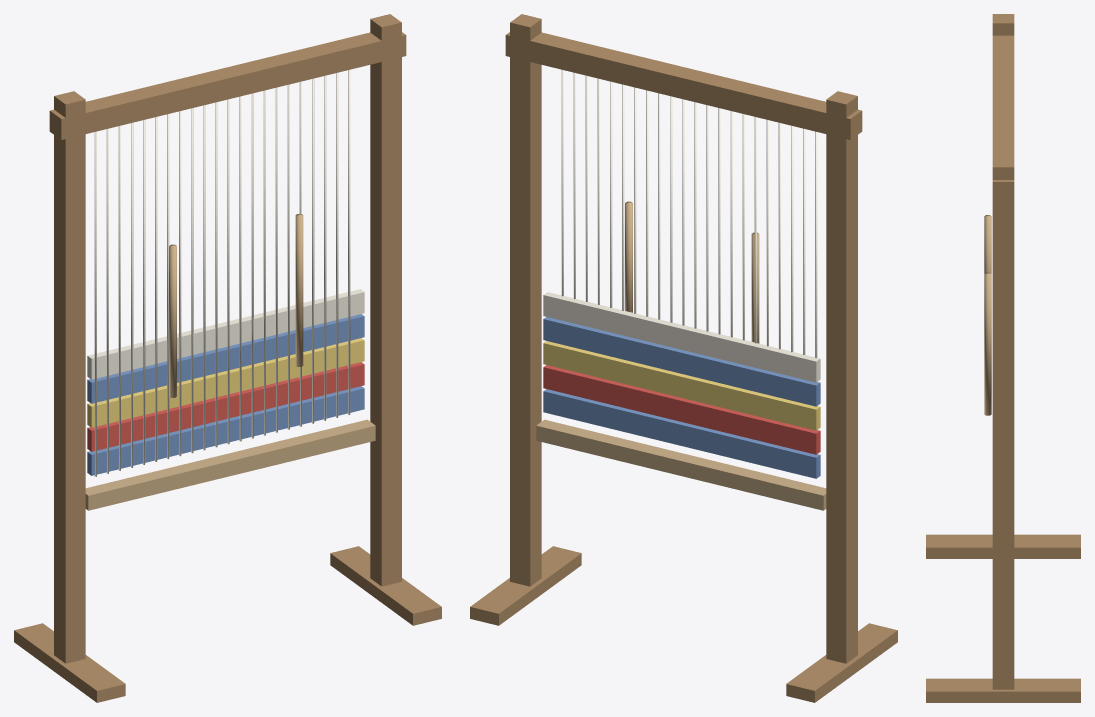
Rendered from telar.glb.
3 views of the same model, side by side, from view 1: azimuth 30°, elevation 25°; view 2: azimuth 150°, elevation 25°; view 3: azimuth 270°, elevation 25° (orthographic). The views are drawn at different scales.
Parts seen in each view (by area): view 1: telar; view 2: telar; view 3: telar.
Part boxes in pixels (x1,y1,x2,y2): telar: (14, 14, 441, 702); telar: (470, 14, 897, 702); telar: (926, 14, 1080, 702).
Size of the model in its own units: 1.2 by 1.9 by 0.5.
